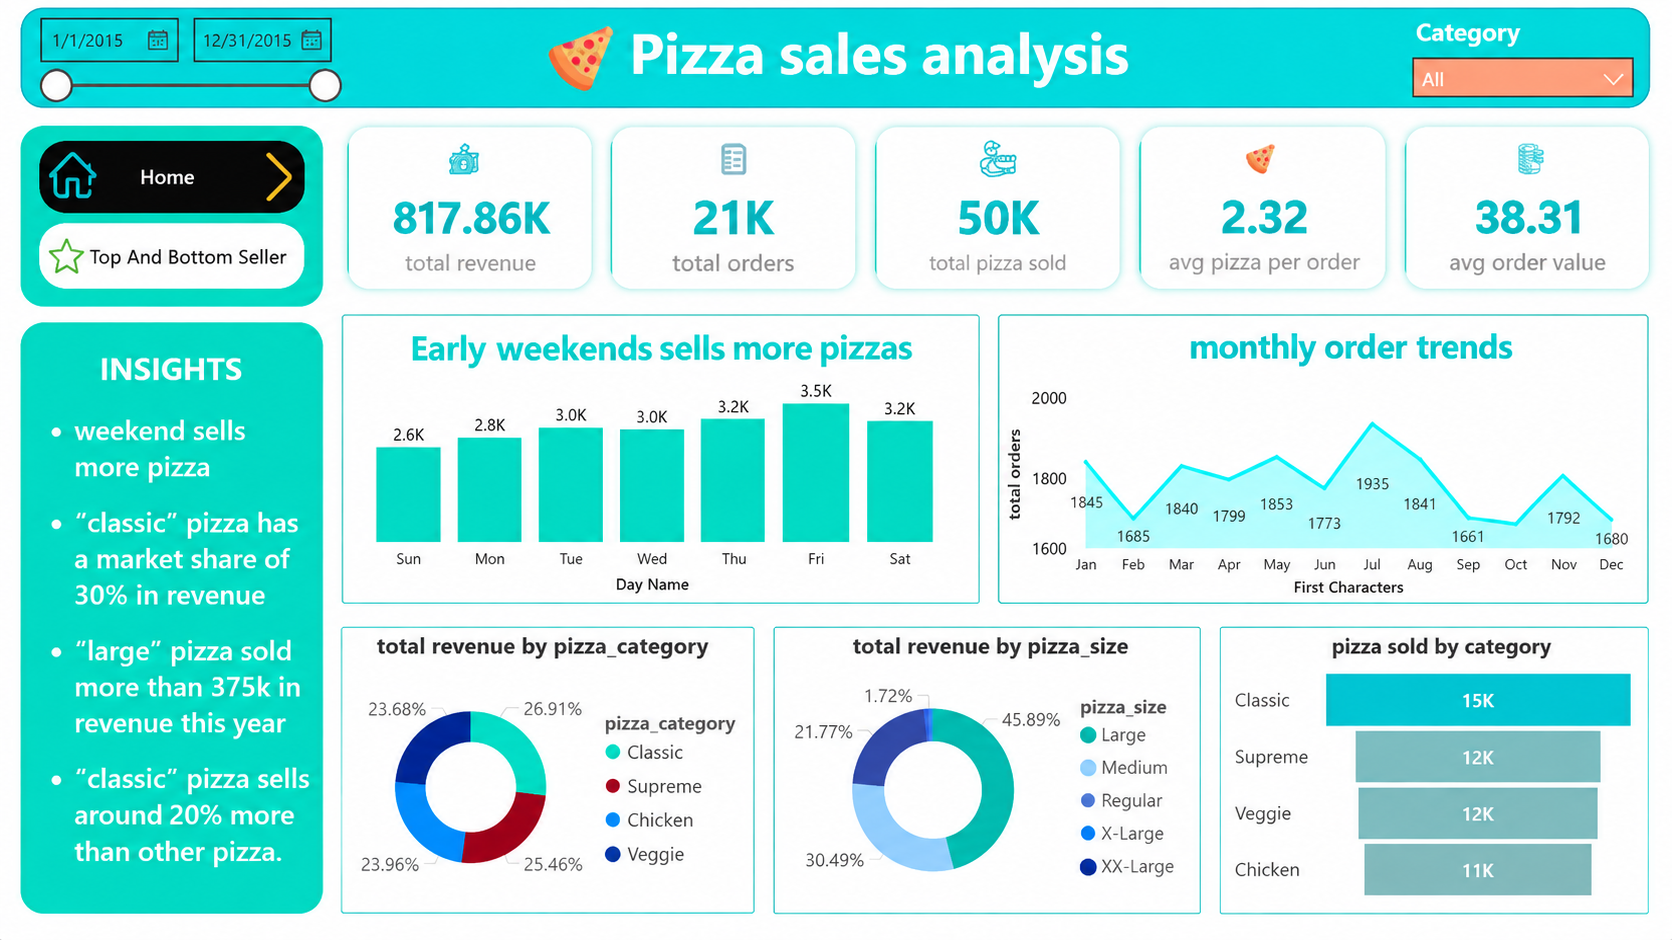

What the dashboard file says about the page in this screenshot:
{"tool":"powerbi","page":{"name":"Home","canvas":[1280,720],"ordinal":0},"visuals":[{"type":"columnChart","title":" Early weekends sells more pizzas","fields":{"Category":["pizza_sales.Day Name"],"Y":["pizza_sales.total orders"]},"box":[255.7,260.1,470.2,210.1],"z":0},{"type":"stackedAreaChart","title":"monthly order trends","fields":{"Category":["pizza_sales.First Characters"],"Y":["pizza_sales.total orders"]},"box":[753.8,260.1,479,210.1],"z":1000},{"type":"cardVisual","fields":{"Data":["pizza_sales.total revenue","pizza_sales.total orders","pizza_sales.total pizza sold","pizza_sales.avg pizza per order","pizza_sales.avg order value"]},"box":[245.4,72,1016.8,173.4],"z":2000},{"type":"shape","box":[16.2,4.4,1246,72],"z":3000},{"type":"textbox","box":[36.7,4.4,1215.2,72],"z":4000},{"type":"image","box":[411.4,19.1,114.6,42.6],"z":5000},{"type":"donutChart","fields":{"Category":["pizza_sales.pizza_category"],"Y":["pizza_sales.total revenue"]},"box":[255.7,501.1,311.5,218.9],"z":6000},{"type":"shape","box":[16.2,94,229.2,626],"z":7000},{"type":"donutChart","fields":{"Category":["pizza_sales.pizza_size"],"Y":["pizza_sales.total revenue"]},"box":[578.9,501.1,317.4,218.9],"z":8000},{"type":"funnel","title":"pizza sold by category","fields":{"Category":["pizza_sales.pizza_category"],"Y":["pizza_sales.total pizza sold"]},"box":[906.6,501.1,326.2,218.9],"z":9000},{"type":"textbox","box":[16.2,321.8,229.2,398.2],"z":10000},{"type":"textbox","box":[48.5,274.8,164.6,47],"z":11000},{"type":"pageNavigator","box":[30.9,104.3,199.8,55.8],"z":12000},{"type":"pageNavigator","box":[30.9,166,199.8,50],"z":13000},{"type":"shape","box":[16.2,229.2,229.2,30.9],"z":14000},{"type":"image","box":[194,111.7,38.2,41.1],"z":15000},{"type":"image","box":[36.7,111.7,35.3,39.7],"z":16000},{"type":"image","box":[36.7,176.3,26.4,29.4],"z":17000},{"type":"slicer","fields":{"Values":["pizza_sales.order_date"]},"box":[16.2,0,227.8,72],"z":19000},{"type":"slicer","fields":{"Values":["pizza_sales.pizza_category"]},"box":[1091.8,5.9,170.4,61.7],"z":19001}]}

Visuals, with their boxes in screenshot pixels (x1, y1, x2, y2), scaled from the page's 1280x720 canvas onto the 1672x940 screenshot:
" Early weekends sells more pizzas" columnChart: detection(334, 340, 948, 614)
"monthly order trends" stackedAreaChart: detection(985, 340, 1610, 614)
cardVisual - pizza_sales.total revenue x pizza_sales.total orders: detection(321, 94, 1649, 320)
shape: detection(21, 6, 1649, 100)
textbox: detection(48, 6, 1635, 100)
image: detection(537, 25, 687, 81)
donutChart - pizza_sales.pizza_category x pizza_sales.total revenue: detection(334, 654, 741, 939)
shape: detection(21, 123, 321, 939)
donutChart - pizza_sales.pizza_size x pizza_sales.total revenue: detection(756, 654, 1171, 939)
"pizza sold by category" funnel: detection(1184, 654, 1610, 939)
textbox: detection(21, 420, 321, 939)
textbox: detection(63, 359, 278, 420)
pageNavigator: detection(40, 136, 301, 209)
pageNavigator: detection(40, 217, 301, 282)
shape: detection(21, 299, 321, 340)
image: detection(253, 146, 303, 199)
image: detection(48, 146, 94, 198)
image: detection(48, 230, 82, 269)
slicer - pizza_sales.order_date: detection(21, 0, 319, 94)
slicer - pizza_sales.pizza_category: detection(1426, 8, 1649, 88)
